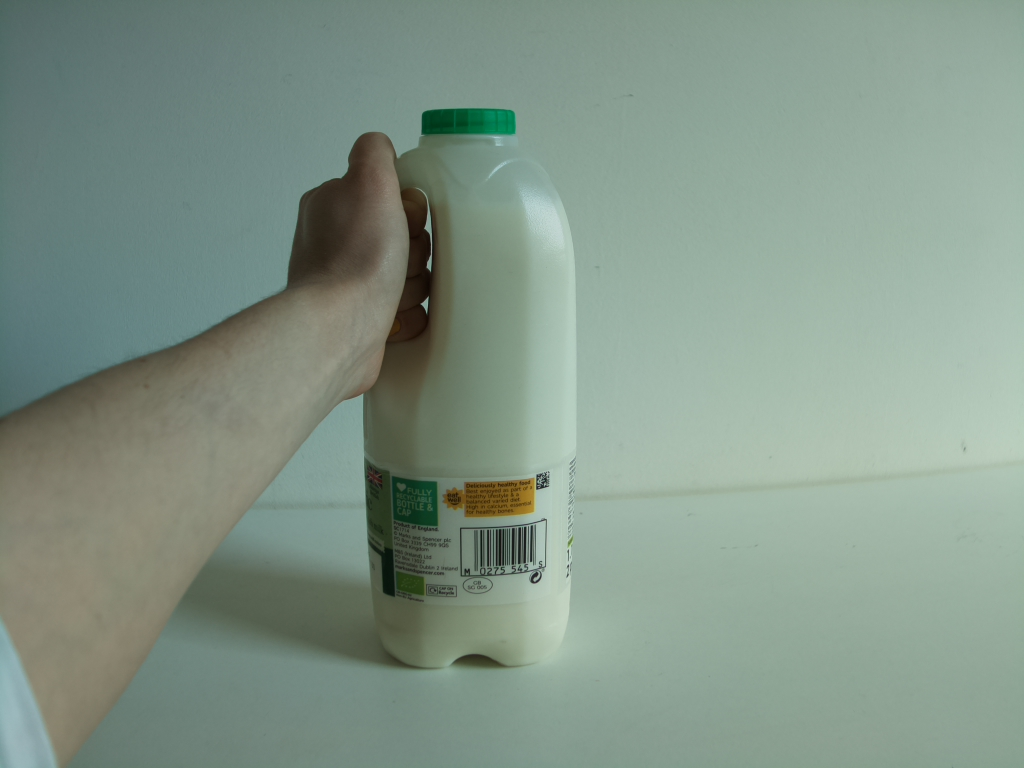milk: (361, 103, 589, 673)
